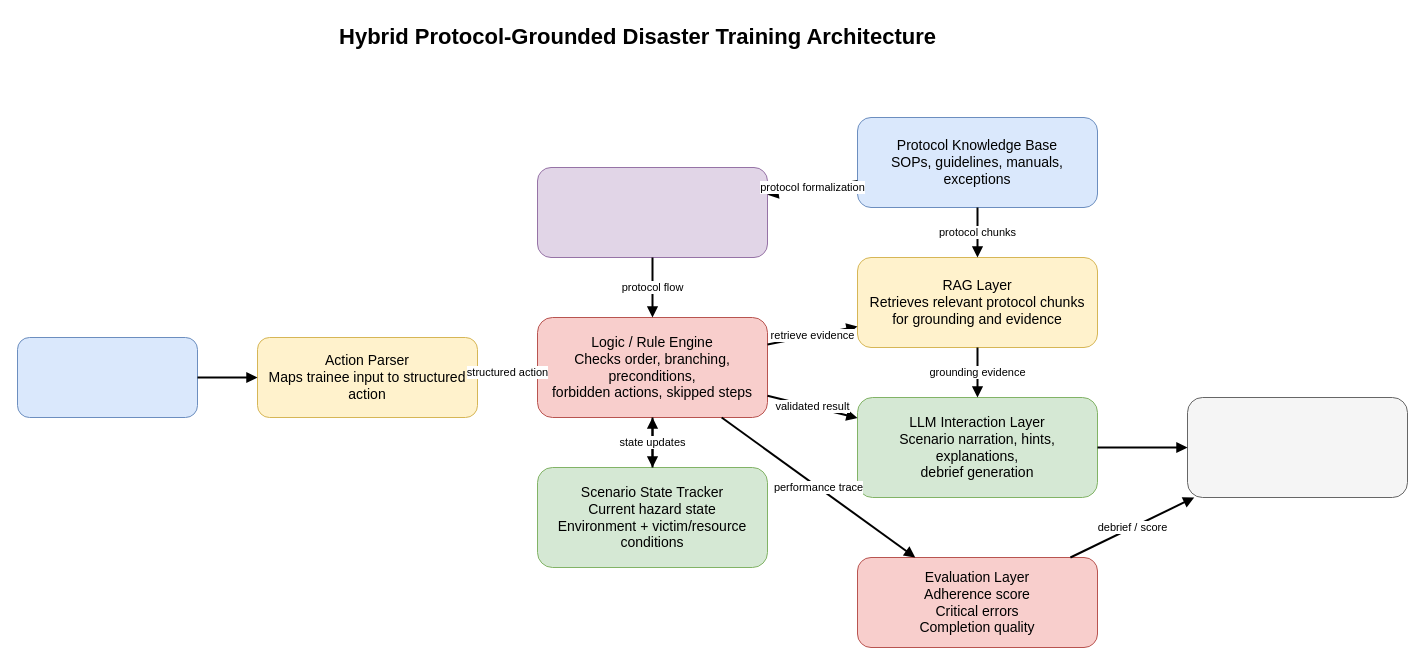
This 1425x665 diagram has some shape labels left out. Here are the shapes that lost their labels. From the top down, the centre of each, then its label:
At pixel 652 212: "Structured Protocol Model Decision tree / state machine / JSON rules".
At pixel 107 377: "Trainee Natural language action / response".
At pixel 1297 447: "System Output Feedback, next step, protocol evidence, score, debrief".
